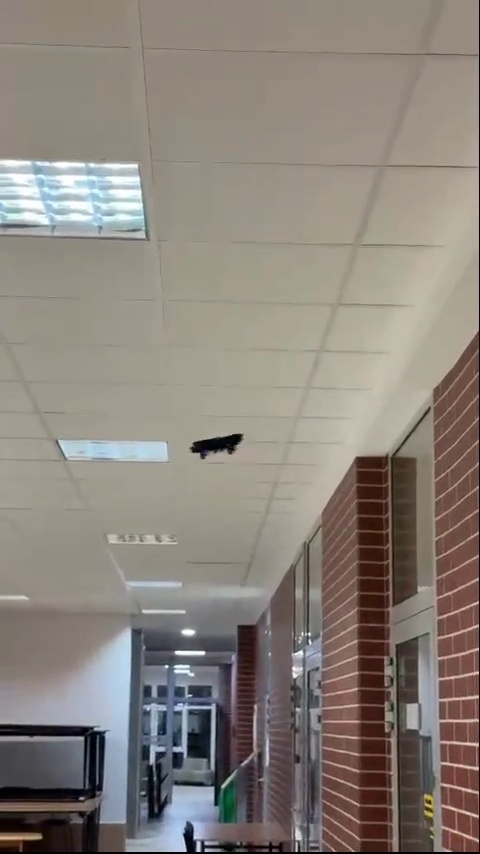drone: (190, 431, 249, 461)
